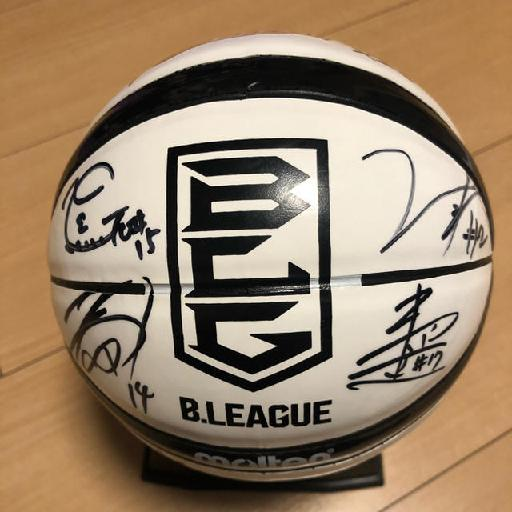ball: (46, 34, 495, 481)
